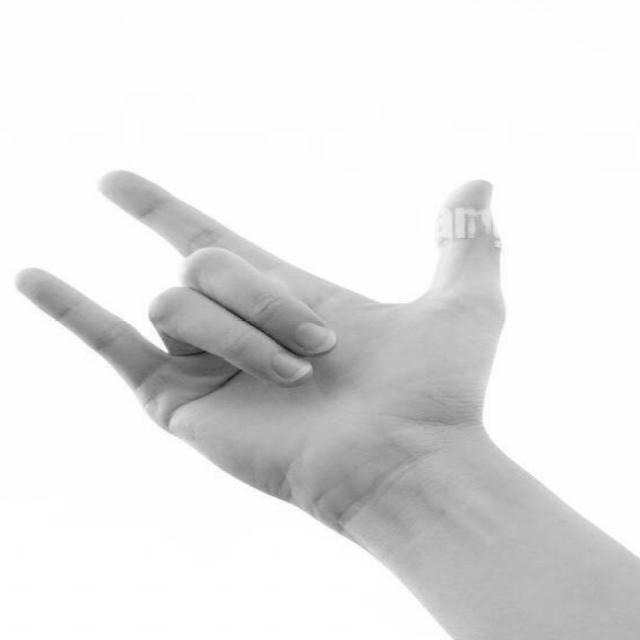i love you: (1, 156, 522, 538)
